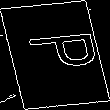P_E: (11, 33, 99, 77)
